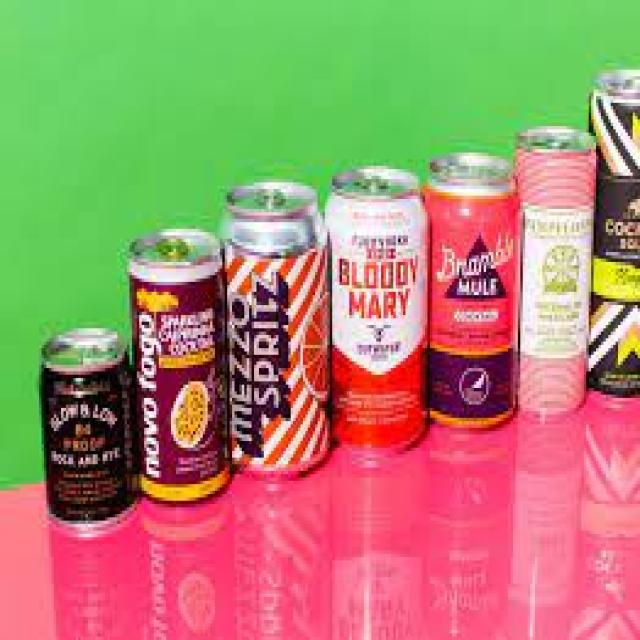Cans: (218, 172, 340, 474), (122, 225, 240, 500), (322, 159, 430, 458), (423, 142, 525, 428), (511, 123, 596, 421), (36, 322, 146, 540)
